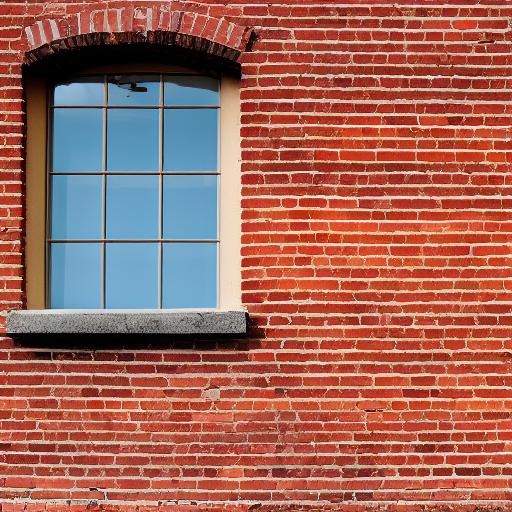Window: (5, 10, 250, 337)
